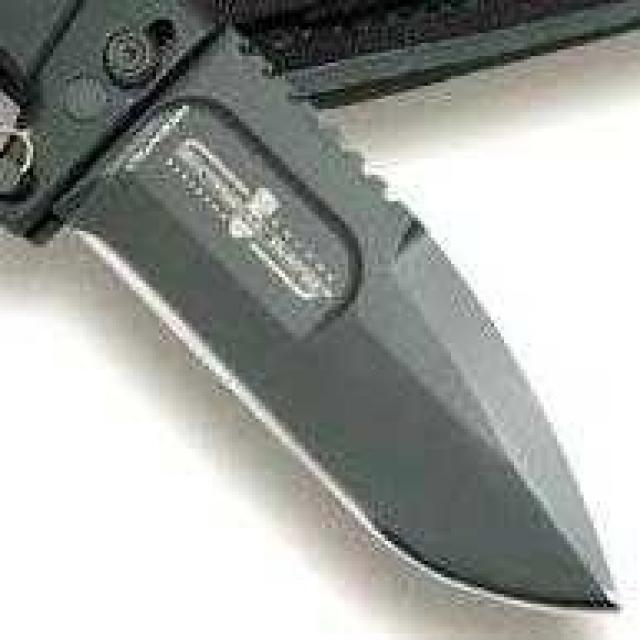knife: (0, 0, 628, 624)
